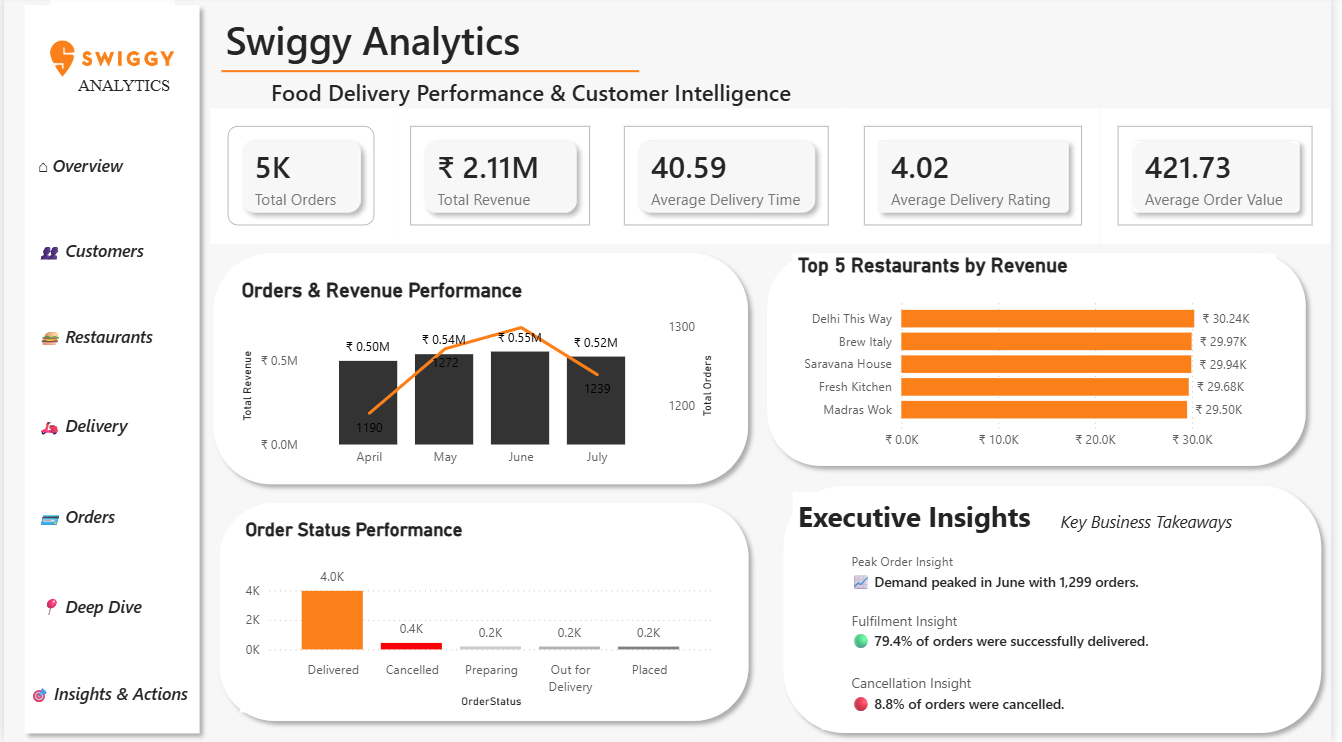

The page's visual inventory and layout, read from the dashboard file:
{"tool":"powerbi","page":{"name":"Executive Overview ","canvas":[1280,720],"ordinal":0},"visuals":[{"type":"shape","box":[198.6,480,528.6,228.6],"z":0},{"type":"shape","box":[727.3,238.8,537.9,223.7],"z":1000},{"type":"shape","box":[192.7,239,534.1,241.5],"z":2000},{"type":"shape","box":[11,0,186.6,720.4],"z":3000},{"type":"image","box":[0,0,208.6,120.8],"z":4000},{"type":"textbox","box":[65.9,72.7,101.5,35.7],"z":5000},{"type":"textbox","box":[27.4,146.8,116.6,31.6],"z":6000},{"type":"textbox","box":[27.4,229.2,119.4,31.6],"z":7000},{"type":"textbox","box":[27.4,312.9,123.5,34.3],"z":8000},{"type":"textbox","box":[27.4,397.9,105.7,37],"z":9000},{"type":"textbox","box":[27.4,485.8,98.8,38.4],"z":10000},{"type":"textbox","box":[27.4,573.6,115.3,38.4],"z":11000},{"type":"textbox","box":[208.6,12.3,808.2,108.4],"z":12000},{"type":"shape","box":[209.9,65.9,403.4,12.3],"z":13000},{"type":"cardVisual","fields":{"Data":["factorders.Total Orders"]},"box":[199,108.4,175.6,130.4],"z":14000},{"type":"cardVisual","fields":{"Data":["factorders.Total Revenue"]},"box":[374.6,108.4,207.2,130.4],"z":15000},{"type":"cardVisual","fields":{"Data":["factorders.Average Delivery Time"]},"box":[581.8,108.4,231.9,130.4],"z":16000},{"type":"cardVisual","fields":{"Data":["factorders.Average Delivery Rating"]},"box":[813.7,108.4,244.3,130.4],"z":17000},{"type":"cardVisual","fields":{"Data":["factorders.Average Order Value"]},"box":[1058,108.4,222.3,130.4],"z":18000},{"type":"lineClusteredColumnComboChart","title":"Orders & Revenue Performance","fields":{"Category":["dimdate.MonthName"],"Y":["factorders.Total Revenue"],"Y2":["factorders.Total Orders"]},"box":[224.4,273.2,465.9,190.2],"z":19000},{"type":"clusteredBarChart","title":"Top 5 Restaurants by Revenue","fields":{"Category":["dimrestaurant.RestaurantName"],"Y":["factorders.Total Revenue"]},"box":[761.6,248.4,466.6,197.6],"z":20000},{"type":"columnChart","title":"Order Status Performance","fields":{"Category":["factorders.OrderStatus"],"Y":["factorders.Total Orders"]},"box":[228.6,504.3,461.4,187.1],"z":21000},{"type":"shape","box":[742.9,462.9,537.1,257.1],"z":22000},{"type":"textbox","box":[761.4,478.6,260,52.9],"z":23000},{"type":"textbox","box":[1014.3,491.4,187.1,32.9],"z":24000},{"type":"cardVisual","fields":{"Data":["dimcustomer.Peak Order Insight"]},"box":[788.6,520,355.7,71.4],"z":25000},{"type":"cardVisual","fields":{"Data":["dimcustomer.Fulfilment Insight"]},"box":[788.6,577.1,355.7,70],"z":26000},{"type":"cardVisual","fields":{"Data":["dimcustomer.Cancellation Insight"]},"box":[789,636.7,355.4,71.4],"z":27000},{"type":"textbox","box":[20.6,657.3,166,32.9],"z":28000},{"type":"actionButton","box":[27.4,226.4,119.4,39.8],"z":28001},{"type":"actionButton","box":[27.4,307.4,123.5,39.8],"z":28002},{"type":"actionButton","box":[27.4,395.2,100,40],"z":28003},{"type":"actionButton","box":[26.1,480.3,100,40],"z":28004},{"type":"actionButton","box":[30.2,572.2,112.5,39.8],"z":28005},{"type":"actionButton","box":[20.6,654.5,166,39.8],"z":28006}]}

Visuals, with their boxes on the page's 1280x720 design canvas (x1, y1, x2, y2). These are canvas units, not pixel positions in the 1342x742 screenshot, which may show the page scaled, cropped or inside an application window:
shape: bbox=(199, 480, 727, 709)
shape: bbox=(727, 239, 1265, 462)
shape: bbox=(193, 239, 727, 480)
shape: bbox=(11, 0, 198, 720)
image: bbox=(0, 0, 209, 121)
textbox: bbox=(66, 73, 167, 108)
textbox: bbox=(27, 147, 144, 178)
textbox: bbox=(27, 229, 147, 261)
textbox: bbox=(27, 313, 151, 347)
textbox: bbox=(27, 398, 133, 435)
textbox: bbox=(27, 486, 126, 524)
textbox: bbox=(27, 574, 143, 612)
textbox: bbox=(209, 12, 1017, 121)
shape: bbox=(210, 66, 613, 78)
cardVisual - factorders.Total Orders: bbox=(199, 108, 375, 239)
cardVisual - factorders.Total Revenue: bbox=(375, 108, 582, 239)
cardVisual - factorders.Average Delivery Time: bbox=(582, 108, 814, 239)
cardVisual - factorders.Average Delivery Rating: bbox=(814, 108, 1058, 239)
cardVisual - factorders.Average Order Value: bbox=(1058, 108, 1280, 239)
"Orders & Revenue Performance" lineClusteredColumnComboChart: bbox=(224, 273, 690, 463)
"Top 5 Restaurants by Revenue" clusteredBarChart: bbox=(762, 248, 1228, 446)
"Order Status Performance" columnChart: bbox=(229, 504, 690, 691)
shape: bbox=(743, 463, 1280, 720)
textbox: bbox=(761, 479, 1021, 532)
textbox: bbox=(1014, 491, 1201, 524)
cardVisual - dimcustomer.Peak Order Insight: bbox=(789, 520, 1144, 591)
cardVisual - dimcustomer.Fulfilment Insight: bbox=(789, 577, 1144, 647)
cardVisual - dimcustomer.Cancellation Insight: bbox=(789, 637, 1144, 708)
textbox: bbox=(21, 657, 187, 690)
actionButton: bbox=(27, 226, 147, 266)
actionButton: bbox=(27, 307, 151, 347)
actionButton: bbox=(27, 395, 127, 435)
actionButton: bbox=(26, 480, 126, 520)
actionButton: bbox=(30, 572, 143, 612)
actionButton: bbox=(21, 654, 187, 694)
